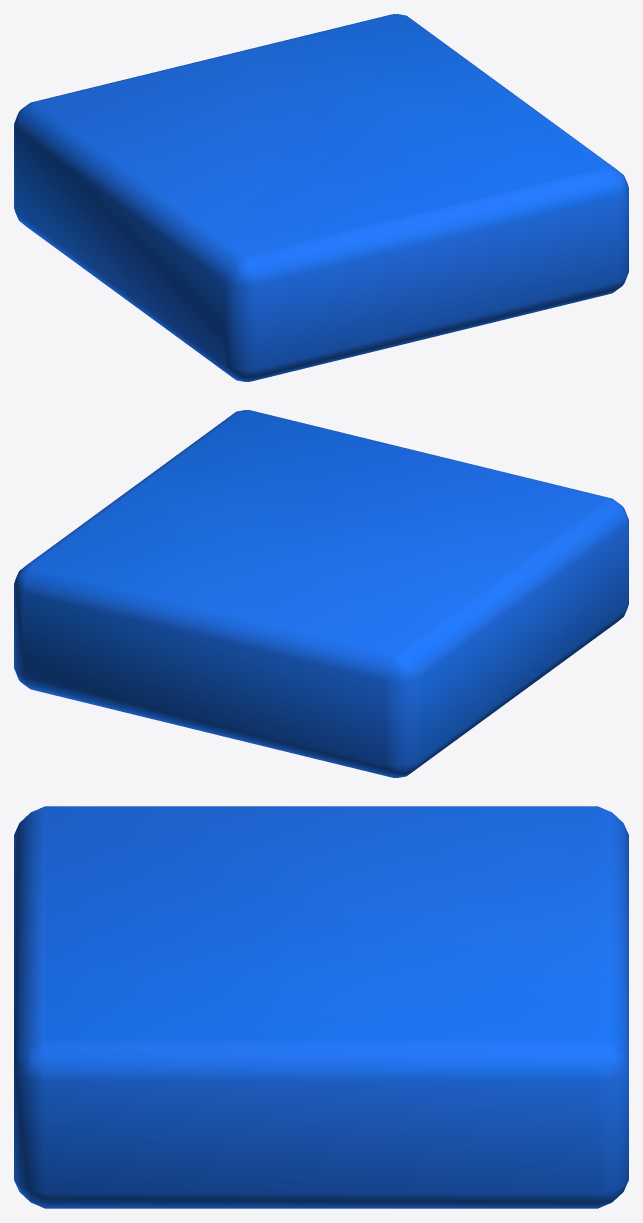
Rendered from SquareBlockBlue.fbx.
3 renders of one model, top to bottom at view 1: azimuth 30°, elevation 25°; view 2: azimuth 150°, elevation 25°; view 3: azimuth 270°, elevation 25°, orthographic. The views are drawn at different scales.
Visible parts, largest first — view 1: SquareBlock; view 2: SquareBlock; view 3: SquareBlock.
Boxes of the visible parts, <box> form: SquareBlock: <box>14,14,628,381</box>; SquareBlock: <box>14,410,628,777</box>; SquareBlock: <box>14,806,628,1208</box>.
Size of the model in its own units: 4 by 1.2 by 4.
